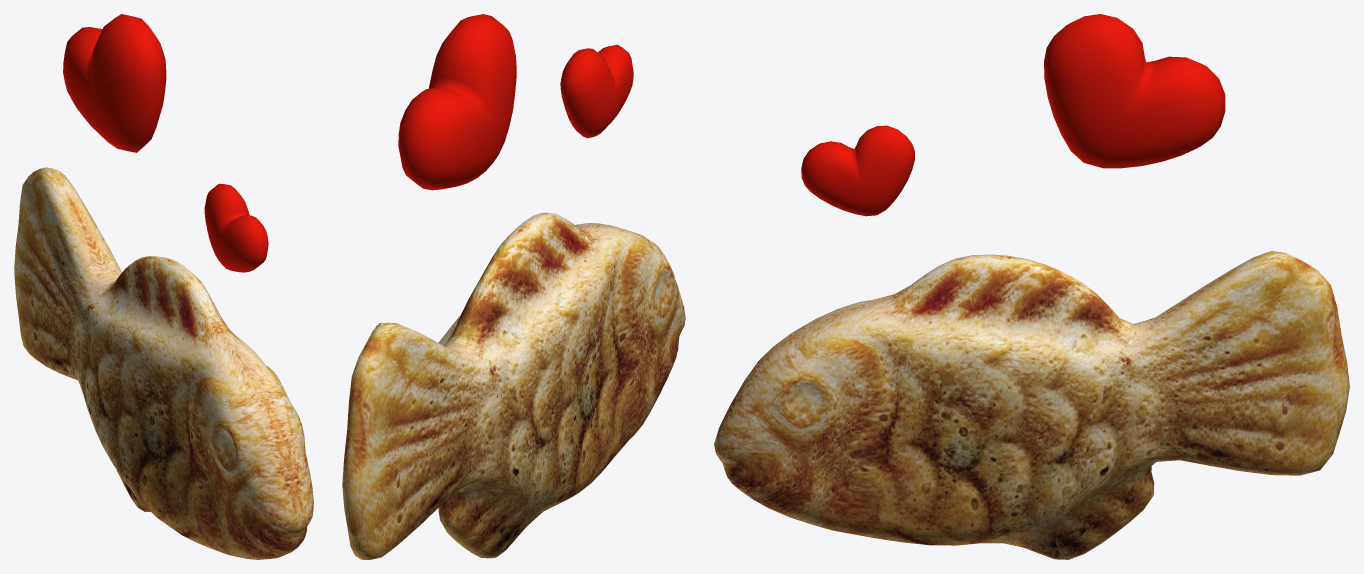
File: fishBread.glb
The picture shows the model from 3 angles, left to right: view 1: azimuth 30°, elevation 25°; view 2: azimuth 150°, elevation 25°; view 3: azimuth 270°, elevation 25°; orthographic projection. The views are drawn at different scales.
Parts seen in each view (by area): view 1: Sub, Main; view 2: Sub, Main; view 3: Sub, Main.
Part boxes in pixels (left/top/right/bottom): Sub: left=14, top=167, right=313, bottom=559; Main: left=63, top=14, right=268, bottom=272; Sub: left=342, top=212, right=685, bottom=559; Main: left=398, top=14, right=633, bottom=190; Sub: left=714, top=251, right=1349, bottom=559; Main: left=801, top=14, right=1225, bottom=216.
Size of the model in its own units: 0.1739 by 0.9411 by 0.9976.
Materials: 2 (1 with a texture image).
